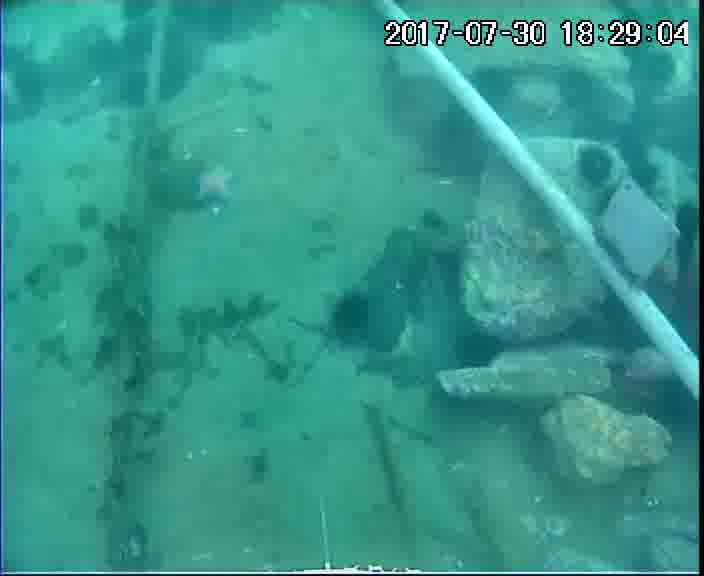echinus: (326, 286, 377, 348), (450, 326, 505, 375), (428, 110, 474, 164), (472, 63, 519, 107), (11, 63, 52, 107), (559, 70, 601, 112), (577, 145, 618, 188), (640, 47, 679, 89), (119, 21, 159, 60), (631, 151, 665, 195), (88, 41, 125, 81), (674, 198, 704, 244), (119, 65, 153, 105)
starfish: (191, 159, 240, 209)
